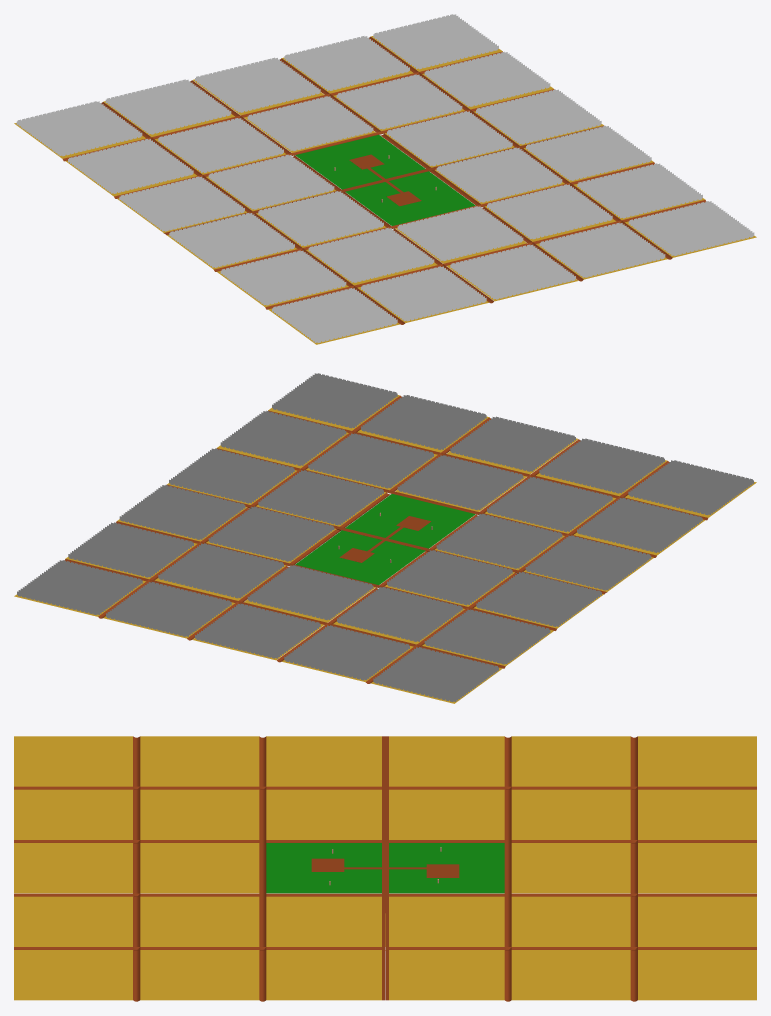
The model's file is Map_01.fbx.
3 renders of one model, top to bottom at view 1: azimuth 30°, elevation 25°; view 2: azimuth 150°, elevation 25°; view 3: azimuth 270°, elevation 25°, orthographic. The views are drawn at different scales.
Parts seen in each view (by area): view 1: Cube.150, Cube.155, Plane.053, Plane.034, Plane.017, Plane.047, Plane.044, Plane.048, Plane.033, Plane.018, Plane.020, Plane.024 (+21 smaller); view 2: Cube.155, Cube.150, Plane.002, Plane.047, Plane.045, Plane.007, Plane.037, Plane.018, Plane.056, Plane.023, Plane.049, Plane.042 (+21 smaller); view 3: Cube.155, Cube.150, Plane.008, Plane.025, Plane.052, Plane.051, Plane.050, Plane.043, Plane.036, Plane.013, Plane.011, Plane.010 (+24 smaller).
Part boxes in pixels (x1=…): Cube.150: x1=214, y1=148, x2=705, y2=324; Cube.155: x1=62, y1=36, x2=554, y2=212; Plane.053: x1=208, y1=154, x2=334, y2=209; Plane.034: x1=628, y1=201, x2=754, y2=256; Plane.017: x1=308, y1=227, x2=434, y2=282; Plane.047: x1=247, y1=96, x2=373, y2=151; Plane.044: x1=424, y1=51, x2=550, y2=106; Plane.048: x1=336, y1=74, x2=462, y2=129; Plane.033: x1=539, y1=222, x2=665, y2=277; Plane.018: x1=397, y1=206, x2=523, y2=261; Plane.020: x1=195, y1=57, x2=320, y2=112; Plane.024: x1=220, y1=250, x2=346, y2=305; Cube.155: x1=64, y1=507, x2=556, y2=683; Cube.150: x1=216, y1=395, x2=708, y2=571; Plane.002: x1=436, y1=513, x2=562, y2=568; Plane.047: x1=247, y1=565, x2=373, y2=620; Plane.045: x1=119, y1=485, x2=245, y2=539; Plane.007: x1=424, y1=609, x2=550, y2=664; Plane.037: x1=220, y1=410, x2=346, y2=465; Plane.018: x1=397, y1=455, x2=523, y2=510; Plane.056: x1=208, y1=506, x2=334, y2=561; Plane.023: x1=525, y1=535, x2=651, y2=590; Plane.049: x1=337, y1=587, x2=462, y2=641; Plane.042: x1=17, y1=560, x2=142, y2=615; Cube.155: x1=389, y1=736, x2=756, y2=1001; Cube.150: x1=14, y1=736, x2=381, y2=1001; Plane.008: x1=511, y1=736, x2=630, y2=786; Plane.025: x1=140, y1=736, x2=259, y2=786; Plane.052: x1=511, y1=789, x2=630, y2=839; Plane.051: x1=511, y1=896, x2=630, y2=946; Plane.050: x1=511, y1=843, x2=630, y2=893; Plane.043: x1=511, y1=950, x2=630, y2=1000; Plane.036: x1=140, y1=950, x2=259, y2=1000; Plane.013: x1=140, y1=843, x2=259, y2=893; Plane.011: x1=140, y1=789, x2=259, y2=839; Plane.010: x1=140, y1=896, x2=259, y2=946.
Bounding box in the file's own units: 26233 × 272 × 31200.
